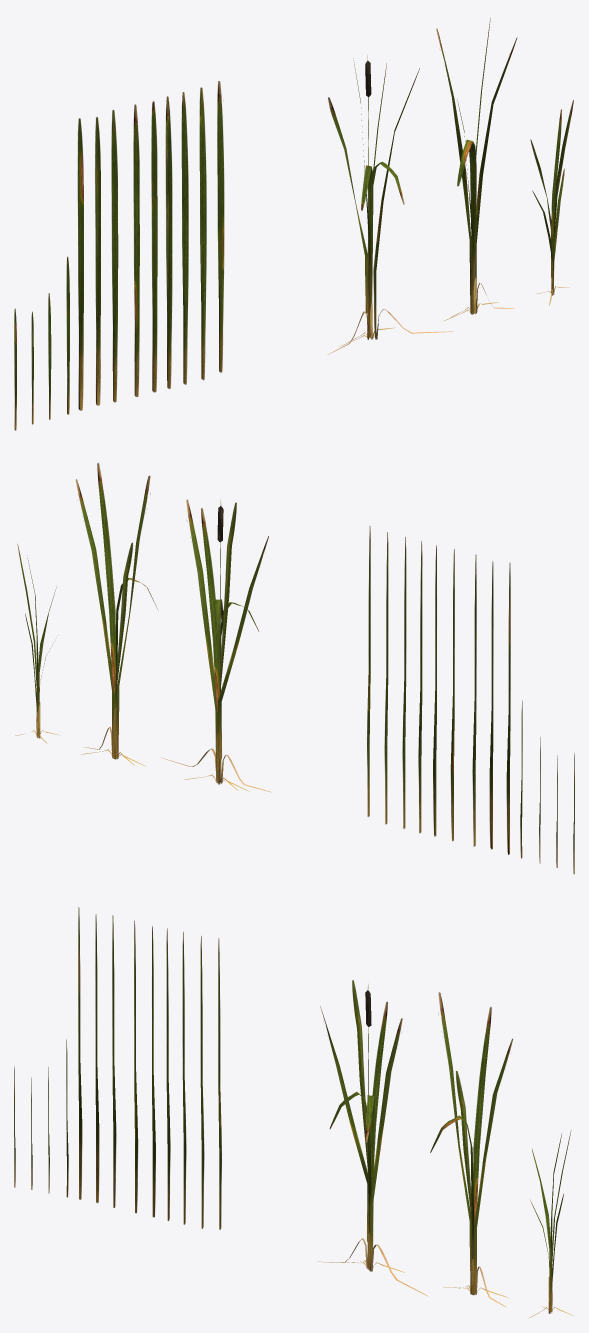
The model's file is veg_cattail.glb.
3 renders of one model, top to bottom at view 1: azimuth 30°, elevation 25°; view 2: azimuth 150°, elevation 25°; view 3: azimuth 330°, elevation 25°, orthographic.
Visible parts, largest first — view 1: Cattail_01_Cattail_00_0; view 2: Cattail_01_Cattail_00_0; view 3: Cattail_01_Cattail_00_0.
Boxes of the visible parts, <box> form: Cattail_01_Cattail_00_0: <box>14,18,573,430</box>; Cattail_01_Cattail_00_0: <box>15,463,574,873</box>; Cattail_01_Cattail_00_0: <box>14,907,574,1317</box>.
Bounding box in the file's own units: 3.13 × 1.6 × 0.247.
1 material, 1 textured.
